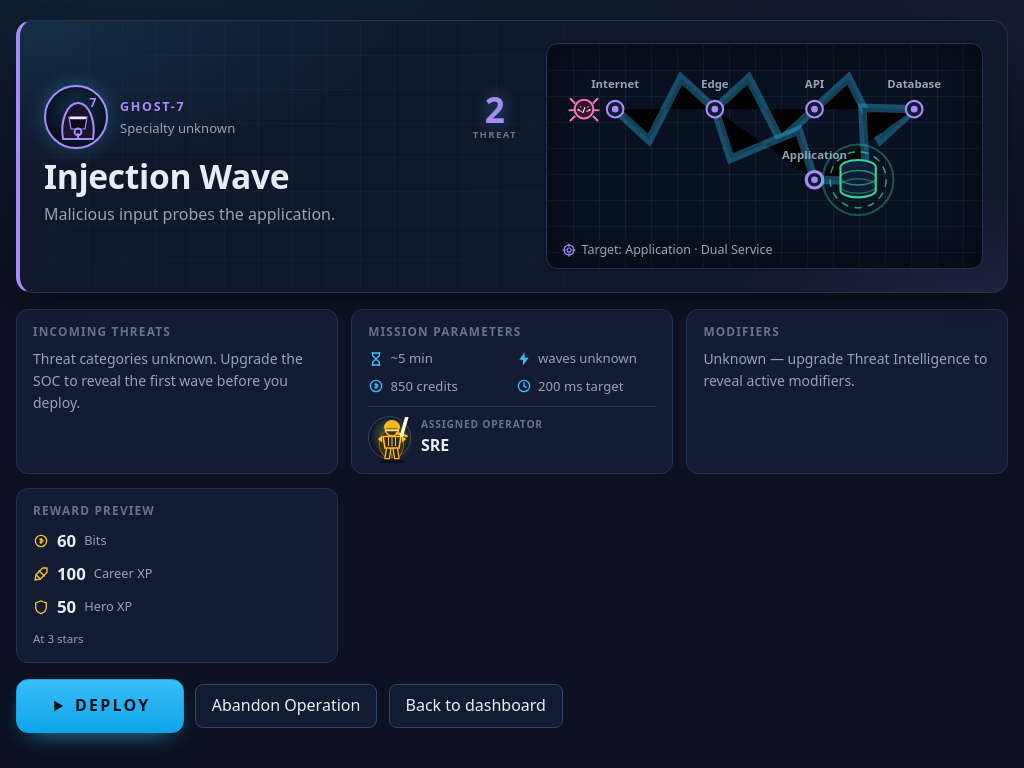
Test case: CyberDefenseOperationPage deploy lifecycle › does not start the battle when the deploy request fails
Click the button "DEPLOY".
click(100, 706)  # box [16,679,184,733]
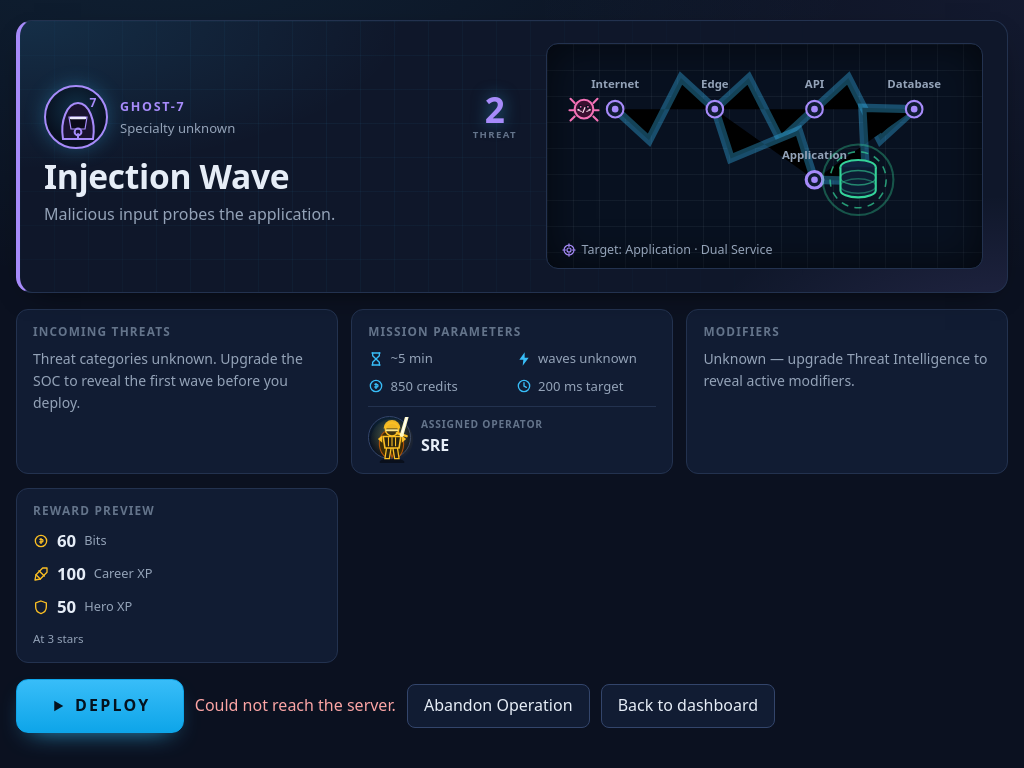
Expected: the message shows "Could not reach the server", [195,694,396,716]
